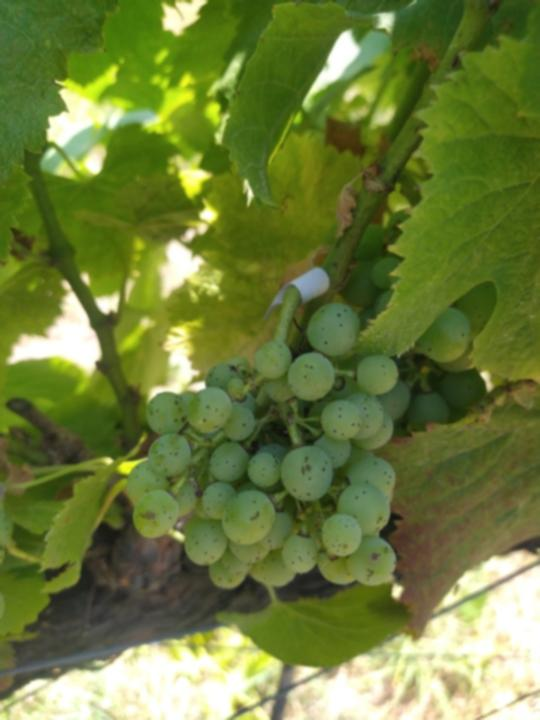grape: (125, 299, 469, 591)
